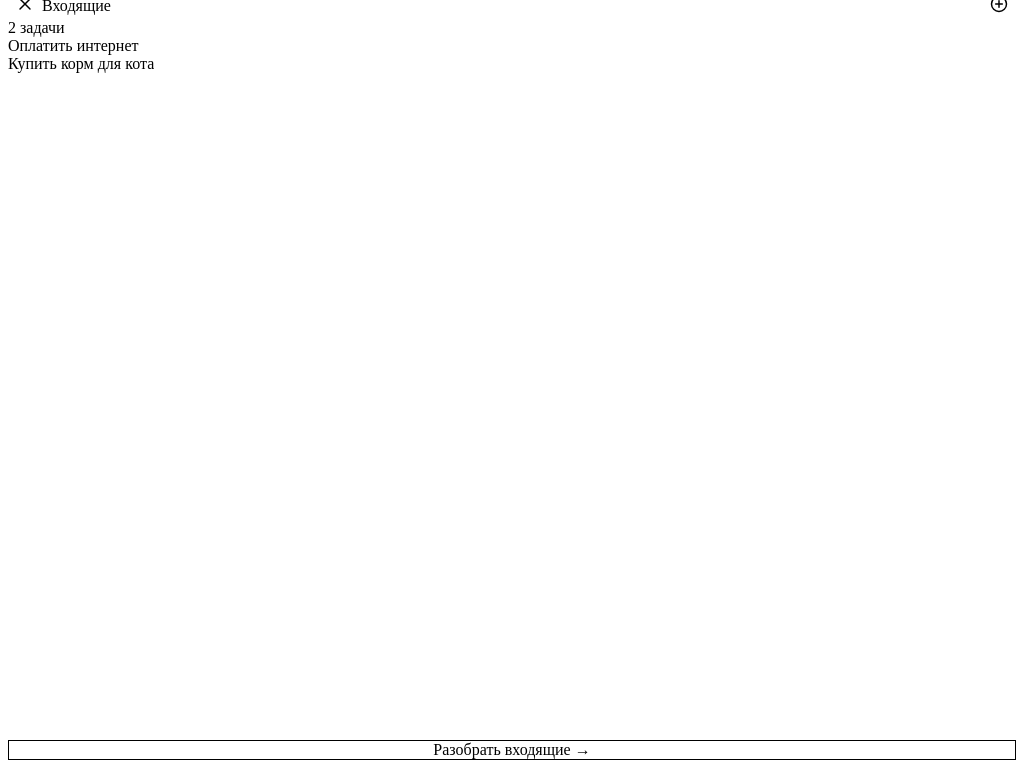
it: Inbox — M12 «Входящие» списком › «Разобрать входящие» переводит в разбор по одной, «Назад» возвращает к списку
(page scrolled)
Check: the text "Оплатить интернет" is shown, box [8,37,138,55]
Click the button "Разобрать входящие →": (512, 750) [8,740,1016,760]
(page scrolled)
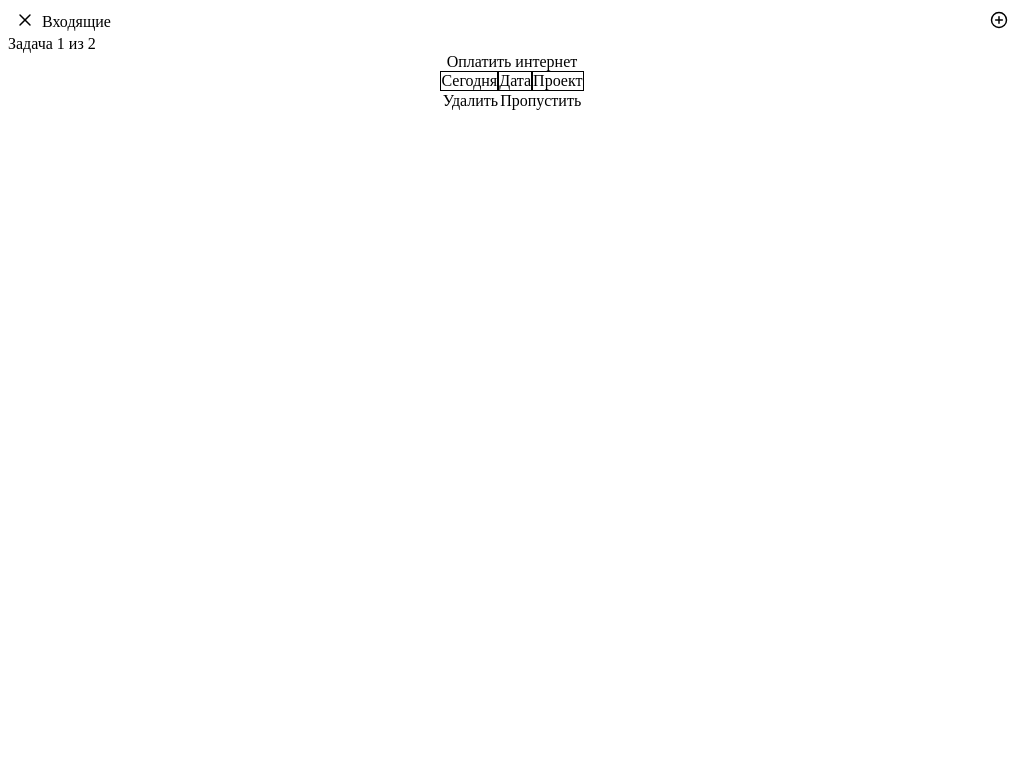
Check: the button "Сегодня" is shown, box [440,71,498,91]
Check: the text "Купить корм для кота" is gone
Click the button named "Закрыть Входящие": (25, 22) [8,8,42,35]
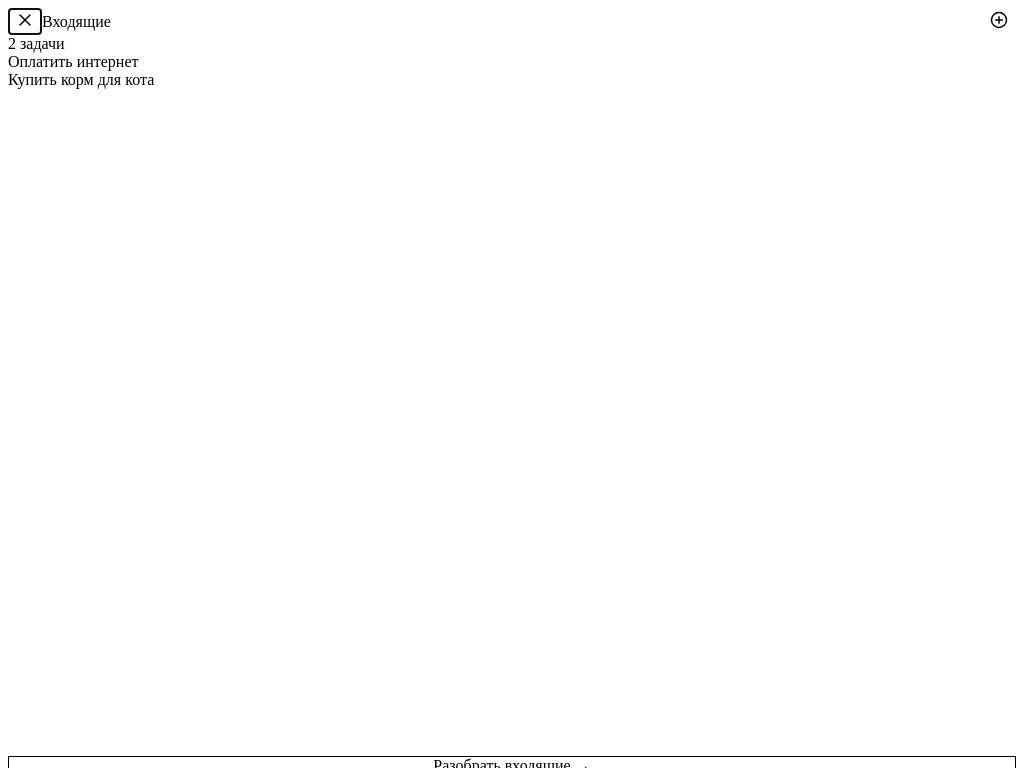
Check: the text "Купить корм для кота" is shown, box [8,71,154,89]
